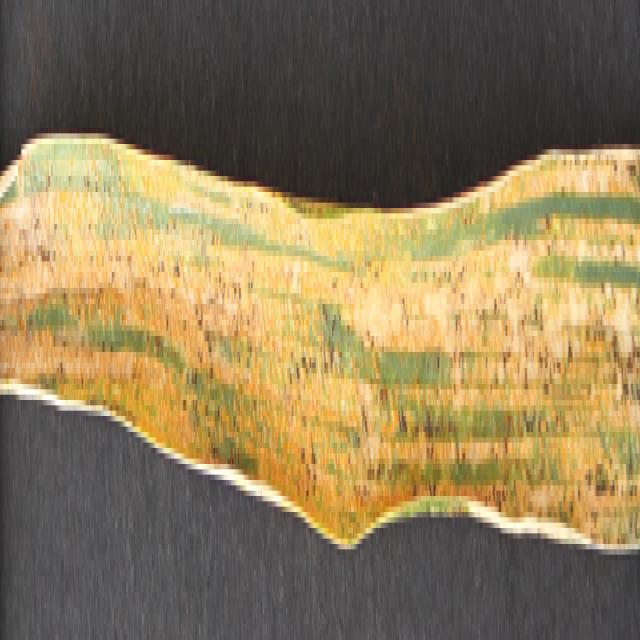leaf rust: (1, 128, 639, 555)
